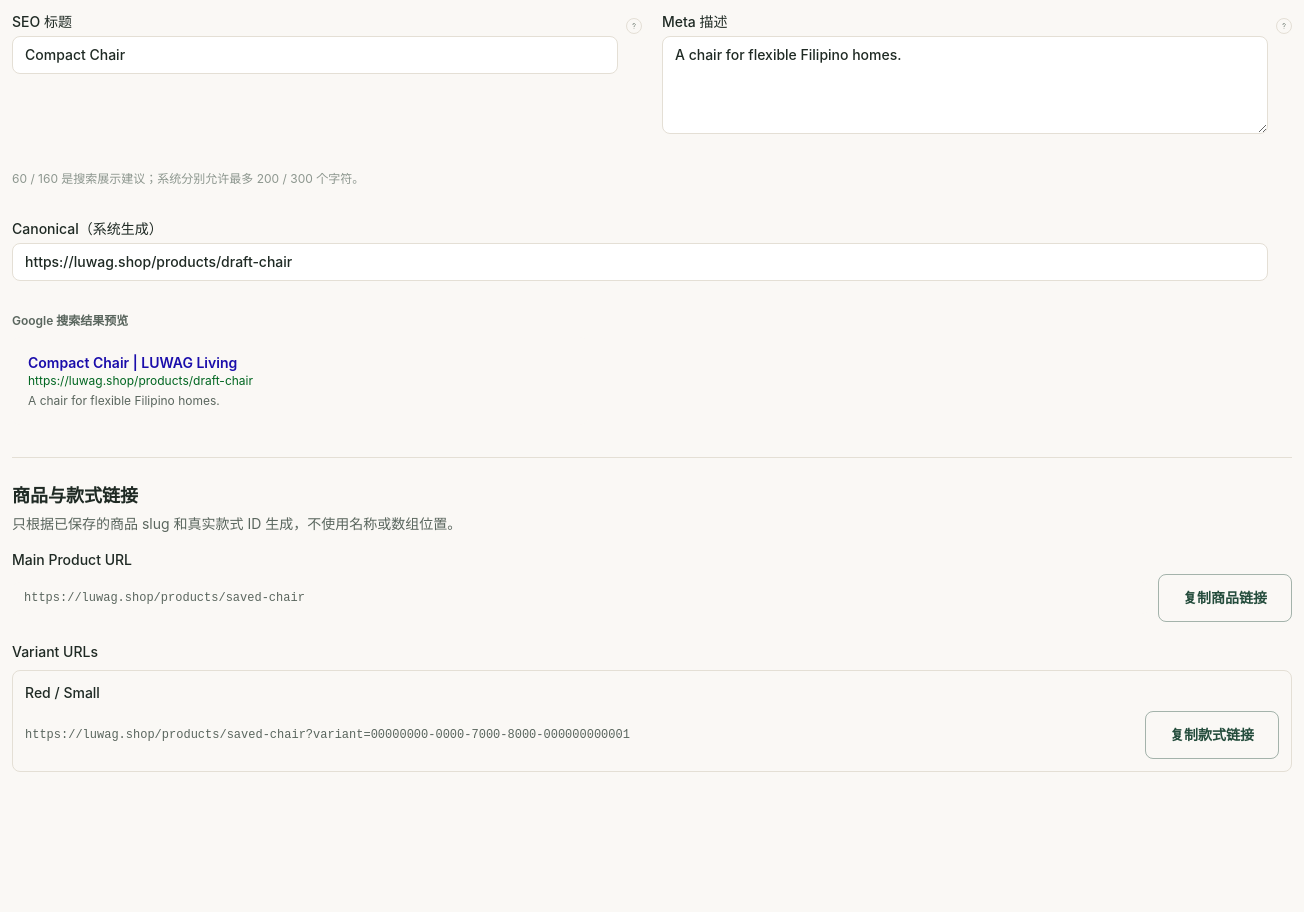
Test: ProductSeoLinksPanel › copies without an alert and shows transient copied feedback
Click the button "复制商品链接": (1225, 598) [1158,574,1292,622]
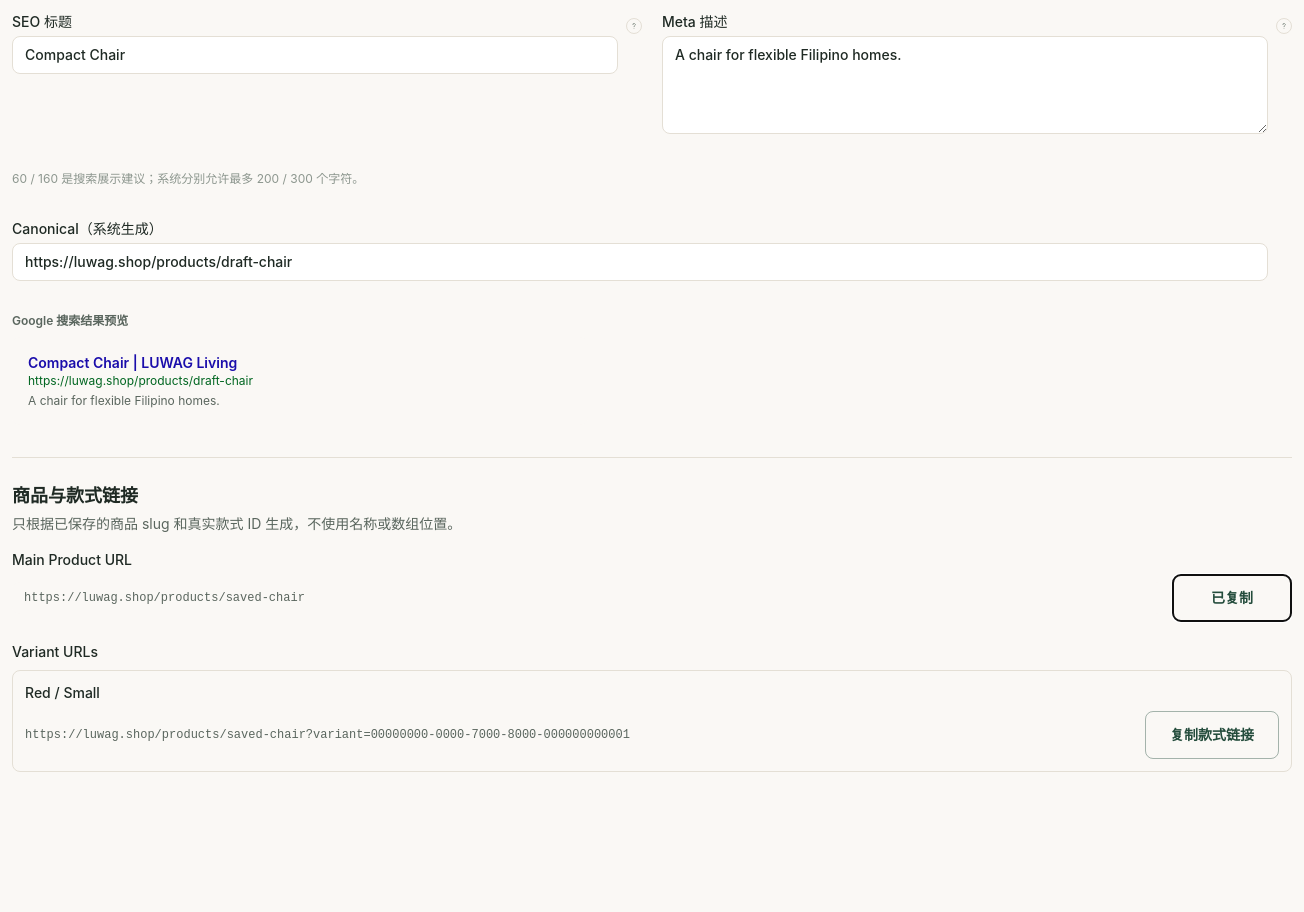
Expected: the button "已复制" is shown, [1172,574,1292,622]
